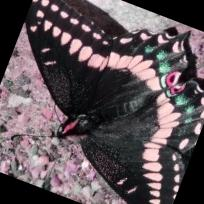butterfly: (25, 0, 204, 204)
